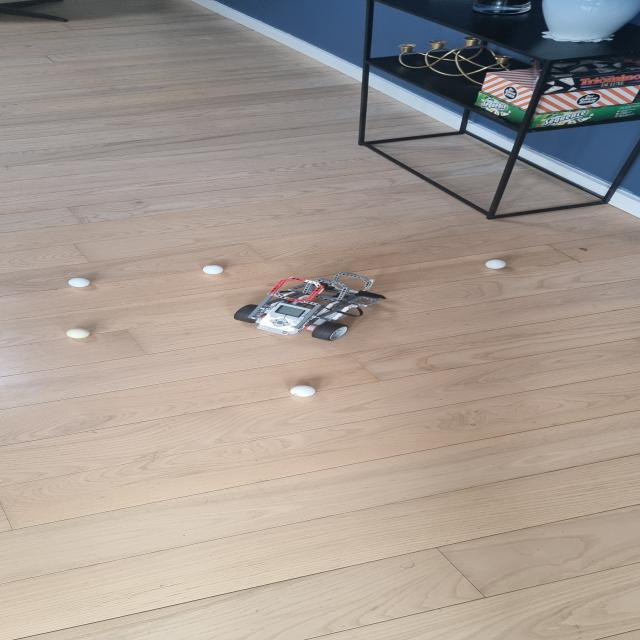robot: (233, 272, 388, 341)
white: (290, 385, 316, 397), (66, 328, 90, 338), (485, 260, 507, 270), (68, 278, 90, 288), (203, 264, 224, 274)
